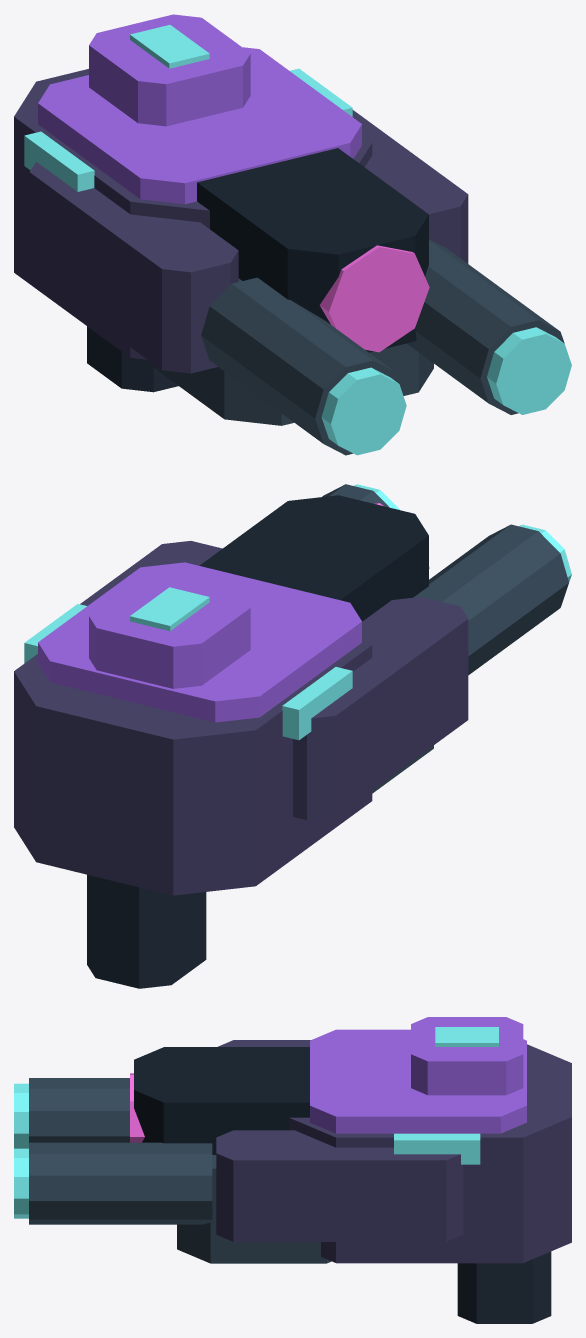
The model's file is gun_arc_cannon.obj.
3 views of the same model, one above another, from view 1: azimuth 30°, elevation 25°; view 2: azimuth 150°, elevation 25°; view 3: azimuth 270°, elevation 25° (orthographic). The views are drawn at different scales.
Bounding box in the file's own units: 0.76 × 0.8025 × 1.49.
